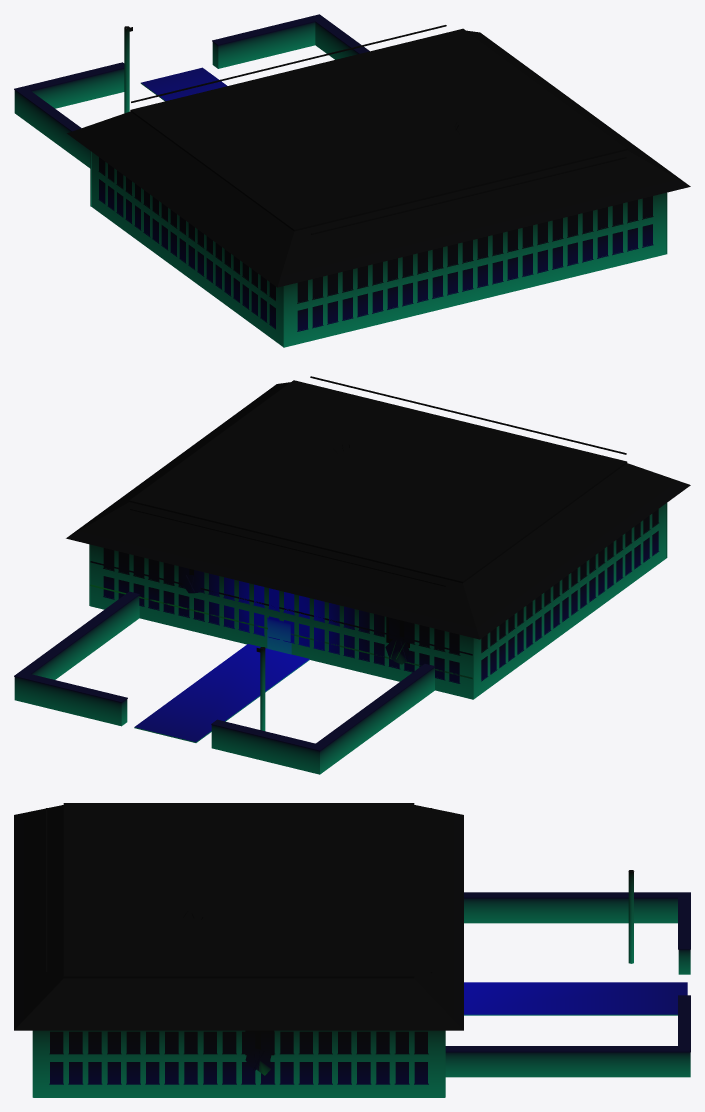
File: s_govresidence_damaged.glb
3 views of the same model, one above another, from view 1: azimuth 30°, elevation 25°; view 2: azimuth 150°, elevation 25°; view 3: azimuth 270°, elevation 25° (orthographic). The views are drawn at different scales.
Parts seen in each view (by area): view 1: lod0; view 2: lod0; view 3: lod0.
Part boxes in pixels (x1,y1,x2,y2): lod0: [14, 14, 690, 347]; lod0: [14, 376, 690, 774]; lod0: [14, 803, 690, 1097].
Size of what is drawn, in the model's own units: 23.76 by 5.91 by 31.52.
